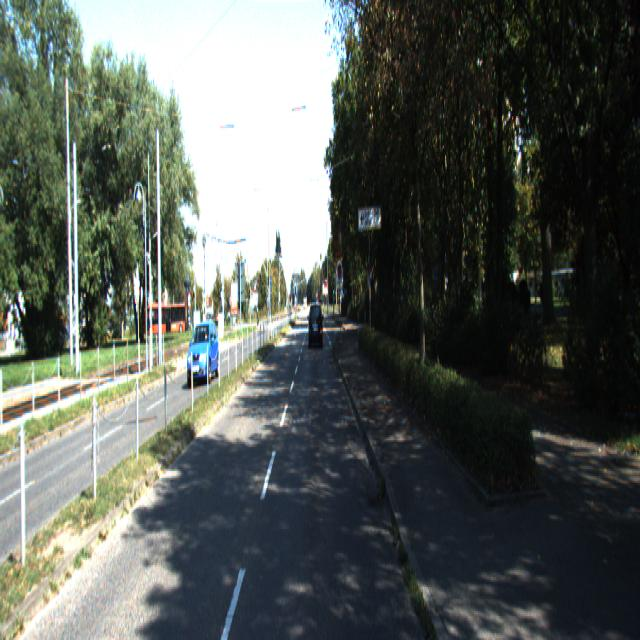Car: (187, 320, 220, 386), (309, 304, 323, 351)
DontCare: (138, 300, 188, 338), (254, 304, 260, 331)
